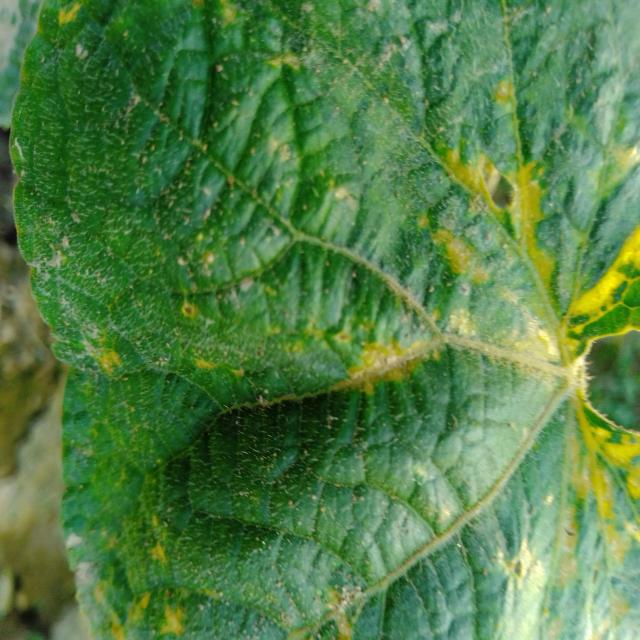cucumber_downy: (27, 1, 640, 640)
